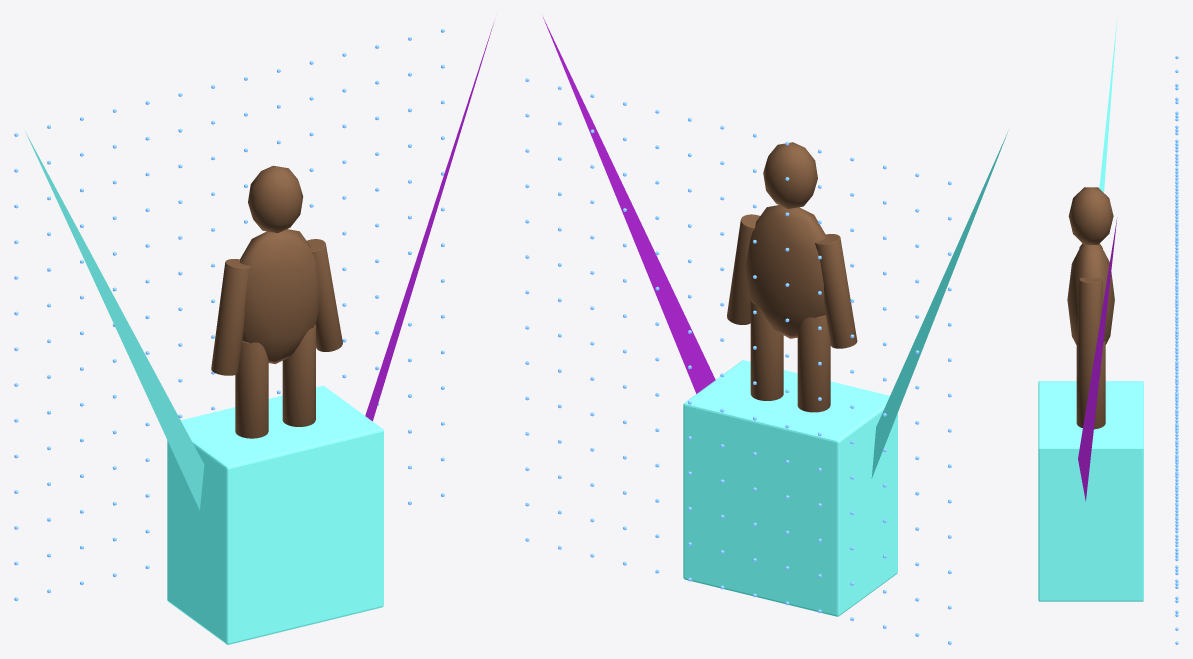
The picture shows the model from 3 angles, left to right: view 1: azimuth 30°, elevation 25°; view 2: azimuth 150°, elevation 25°; view 3: azimuth 270°, elevation 25°; orthographic projection. The views are drawn at different scales.
Visible parts, largest first — view 1: TI066 / turquoise pedestal, TI066 / figure torso, TI066 / angular translucent light sheet, TI066 / figure arm, TI066 / figure leg, TI066 / figure head, TI066 / figure leg.001, TI066 / angular translucent light sheet.001, TI066 / figure arm.001; view 2: TI066 / turquoise pedestal, TI066 / figure torso, TI066 / angular translucent light sheet.001, TI066 / figure leg, TI066 / angular translucent light sheet, TI066 / figure arm, TI066 / figure head, TI066 / figure leg.001, TI066 / figure arm.001; view 3: TI066 / turquoise pedestal, TI066 / figure torso, TI066 / figure arm.001, TI066 / figure head, TI066 / angular translucent light sheet.001, TI066 / figure leg.001, TI066 / angular translucent light sheet.
Boxes of the visible parts, <box> form: TI066 / turquoise pedestal: <box>167,385,383,644</box>; TI066 / figure torso: <box>240,229,319,364</box>; TI066 / angular translucent light sheet: <box>25,131,204,510</box>; TI066 / figure arm: <box>211,259,250,375</box>; TI066 / figure leg: <box>235,341,268,438</box>; TI066 / figure head: <box>248,165,303,232</box>; TI066 / figure leg.001: <box>282,324,315,426</box>; TI066 / angular translucent light sheet.001: <box>365,23,493,421</box>; TI066 / figure arm.001: <box>307,239,342,351</box>; TI066 / turquoise pedestal: <box>683,360,897,616</box>; TI066 / figure torso: <box>745,205,825,338</box>; TI066 / angular translucent light sheet.001: <box>543,17,715,393</box>; TI066 / figure leg: <box>797,315,830,412</box>; TI066 / angular translucent light sheet: <box>871,132,1007,478</box>; TI066 / figure arm: <box>815,234,857,348</box>; TI066 / figure head: <box>763,142,817,208</box>; TI066 / figure leg.001: <box>750,299,783,400</box>; TI066 / figure arm.001: <box>727,214,759,324</box>; TI066 / turquoise pedestal: <box>1038,381,1143,601</box>; TI066 / figure torso: <box>1067,243,1114,344</box>; TI066 / figure arm.001: <box>1076,277,1102,378</box>; TI066 / figure head: <box>1068,187,1113,244</box>; TI066 / angular translucent light sheet.001: <box>1078,217,1117,501</box>; TI066 / figure leg.001: <box>1076,341,1105,429</box>; TI066 / angular translucent light sheet: <box>1099,18,1117,243</box>.
Size of the model in its own units: 3.6 by 3.8 by 1.06.
